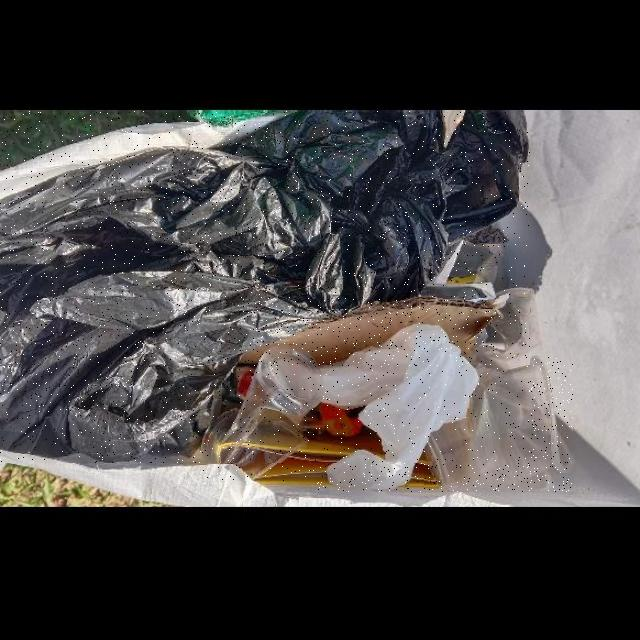paper: (318, 323, 478, 491), (239, 296, 495, 365)
plastic: (0, 111, 530, 462), (424, 357, 573, 491), (200, 344, 323, 480)
